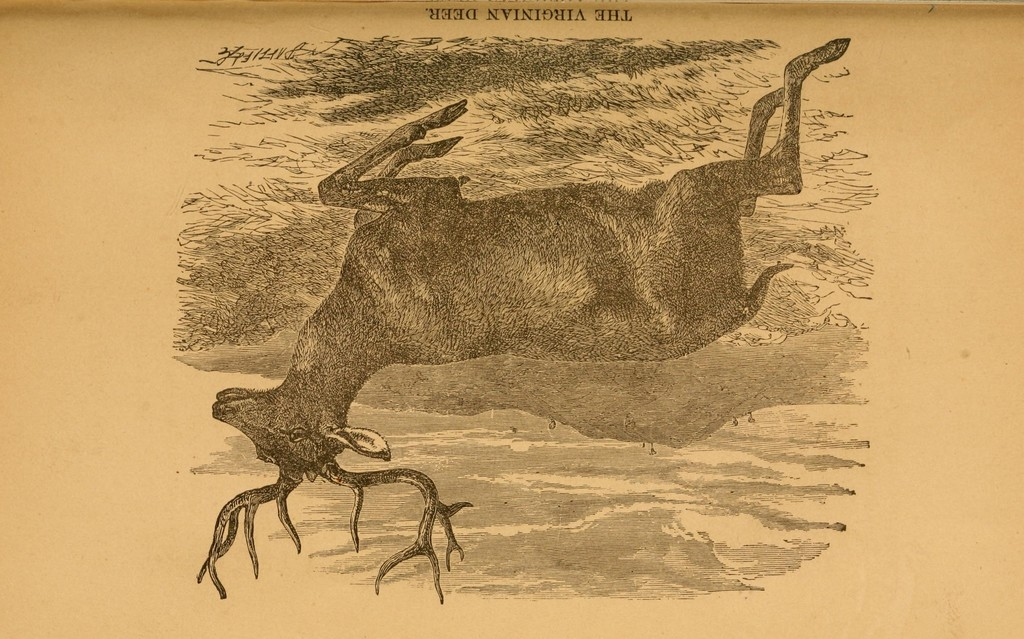Animal: (194, 36, 849, 604)
